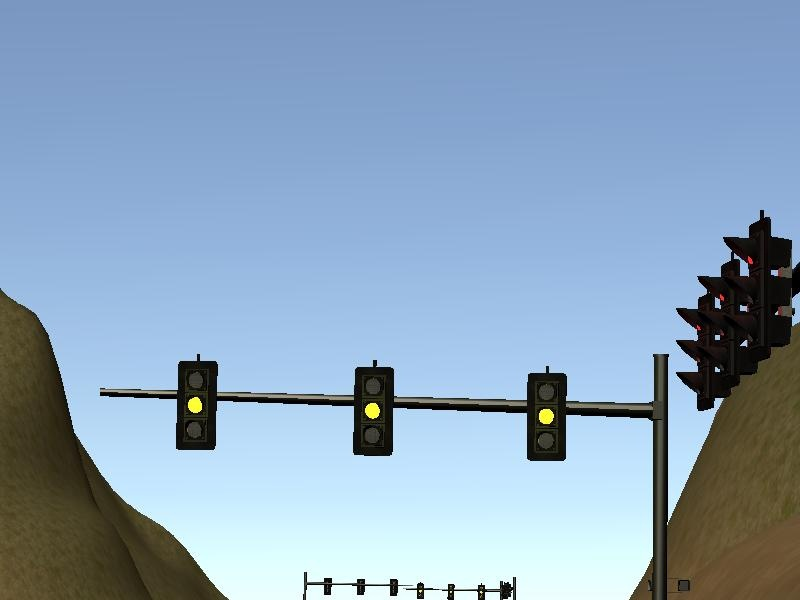YELLOW: (525, 372, 566, 460), (354, 367, 395, 455), (176, 361, 217, 449)
